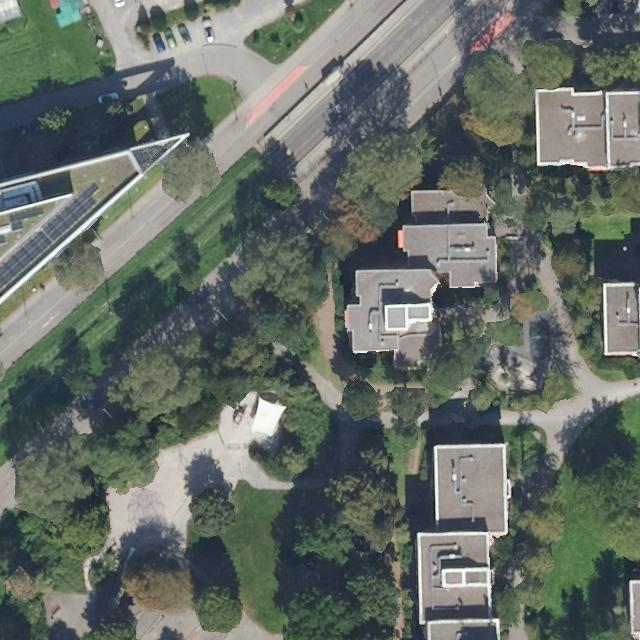PV: (0, 180, 102, 293)
